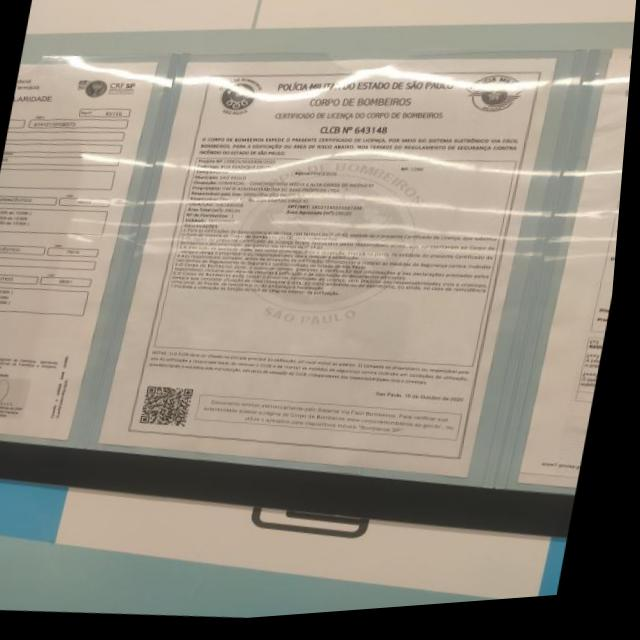qrcode: (146, 387, 201, 434)
